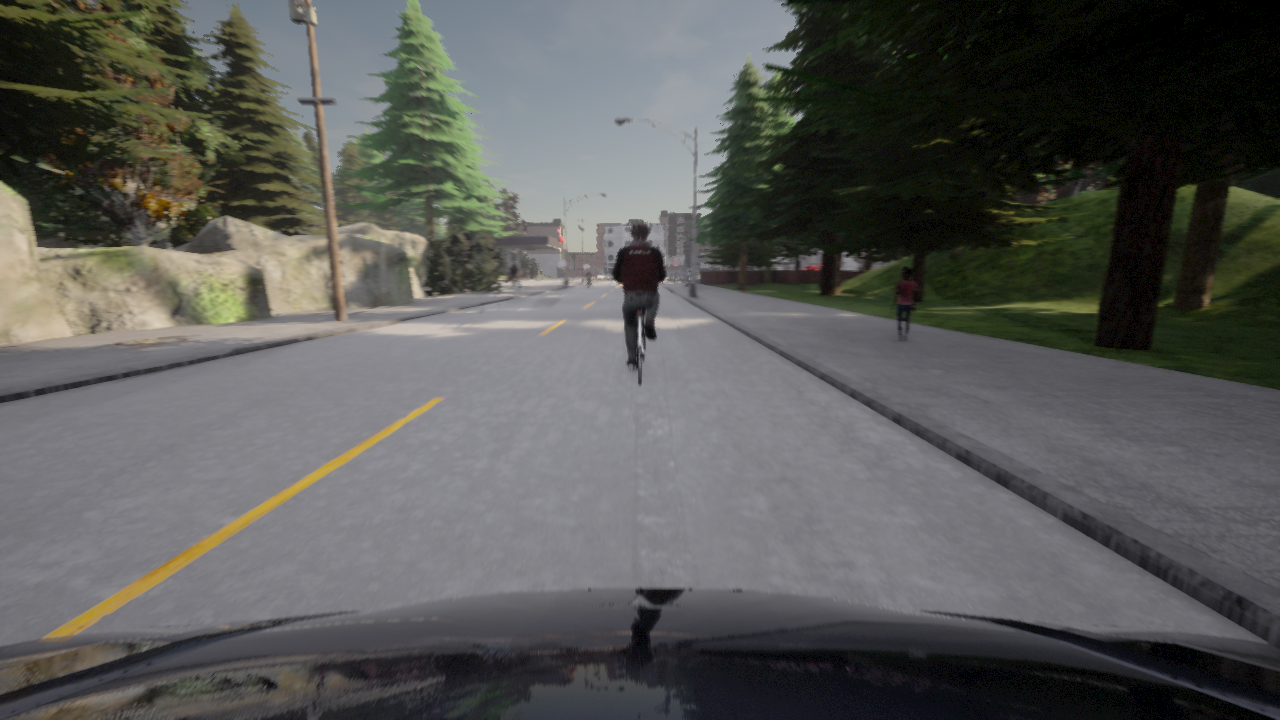cyclist: (0, 588, 1279, 719), (628, 309, 653, 384), (514, 280, 527, 298), (583, 274, 592, 288), (670, 272, 684, 278), (641, 308, 646, 314), (695, 276, 696, 278)
pedestrian: (890, 268, 917, 340), (685, 265, 690, 284), (690, 269, 694, 282)
